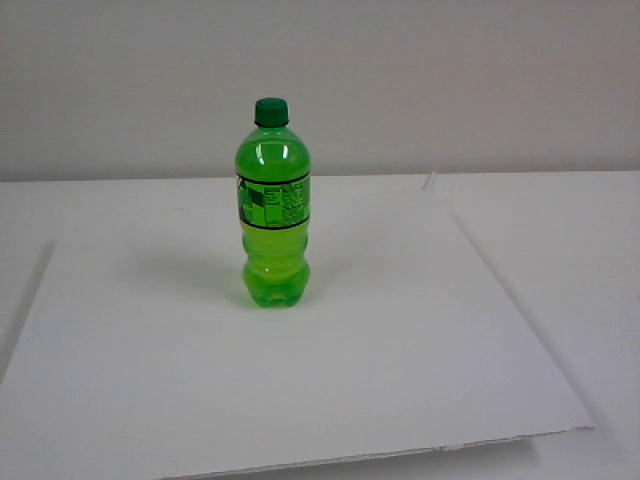botolplastik: (237, 99, 310, 306)
